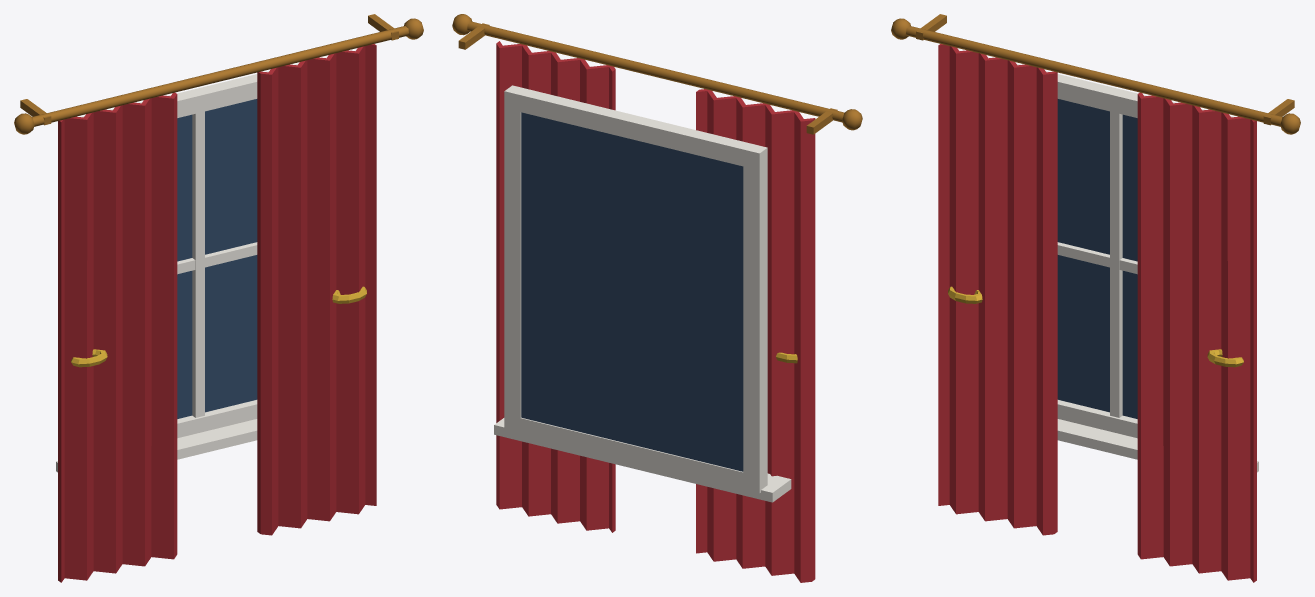
The model's file is curtains.glb.
The picture shows the model from 3 angles, left to right: view 1: azimuth 30°, elevation 25°; view 2: azimuth 150°, elevation 25°; view 3: azimuth 330°, elevation 25°; orthographic projection.
Parts seen in each view (by area): view 1: Curtain, Window pane, Window frame, Curtain rod, Curtain tie, Curtain brackets; view 2: Window pane, Curtain, Window frame, Curtain rod, Curtain brackets; view 3: Curtain, Window pane, Window frame, Curtain rod, Curtain tie, Curtain brackets.
Boxes of the visible parts, x1,y1,x2,y2 form: Curtain: [58, 44, 376, 582]; Window pane: [177, 99, 257, 418]; Window frame: [56, 64, 297, 472]; Curtain rod: [14, 18, 423, 134]; Curtain tie: [71, 286, 366, 367]; Curtain brackets: [20, 14, 398, 125]; Window pane: [521, 112, 743, 471]; Curtain: [496, 41, 815, 582]; Window frame: [494, 85, 791, 502]; Curtain rod: [452, 14, 862, 130]; Curtain brackets: [458, 23, 837, 134]; Curtain: [938, 44, 1256, 582]; Window pane: [1057, 99, 1137, 418]; Window frame: [1017, 64, 1258, 472]; Curtain rod: [891, 18, 1300, 134]; Curtain tie: [948, 286, 1243, 367]; Curtain brackets: [916, 14, 1294, 125].
Bounding box in the file's own units: 1.76 × 1.97 × 0.2345.
